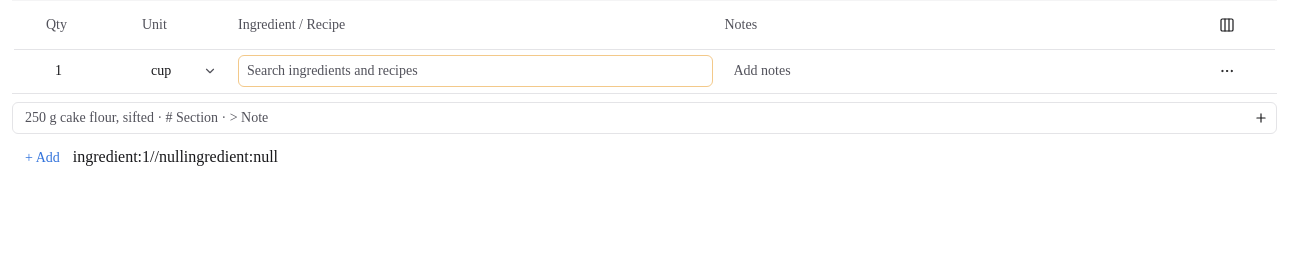
it: recipe items table catalog picker › activates a catalog pick and grows the target list
The width and height of the screenshot is (1292, 258).
In the dropdown named "Ingredient or recipe": x=475, y=71 [238,55,712,87], type "carr"
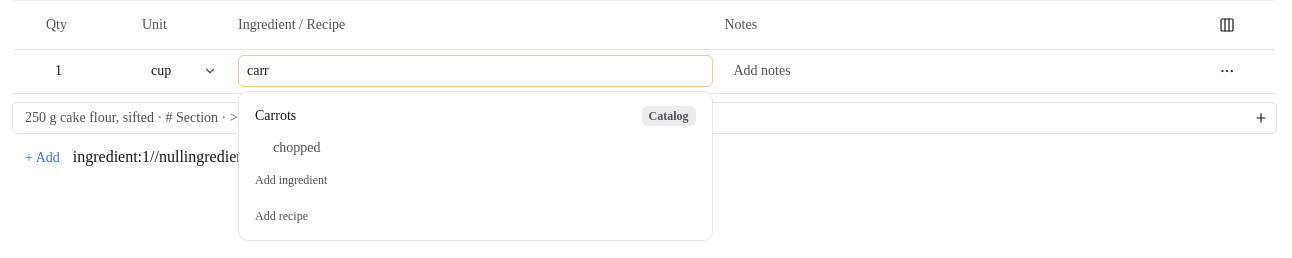
Click the option "Carrots Catalog": x=276, y=116 [245,98,706,134]
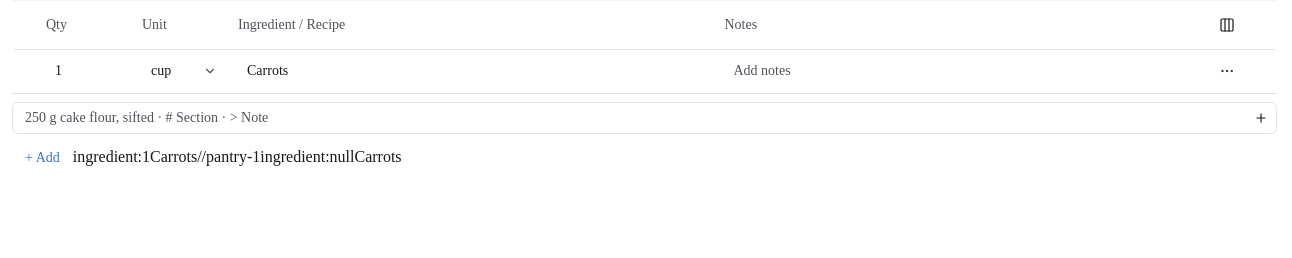
Expected: the text "Carrots//pantry-1" is shown, [150,148,260,165]
Expected: the text with test id "targets" reads "Carrots", [354,148,402,165]
